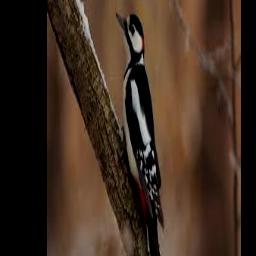Woodpecker: (115, 11, 164, 256)
